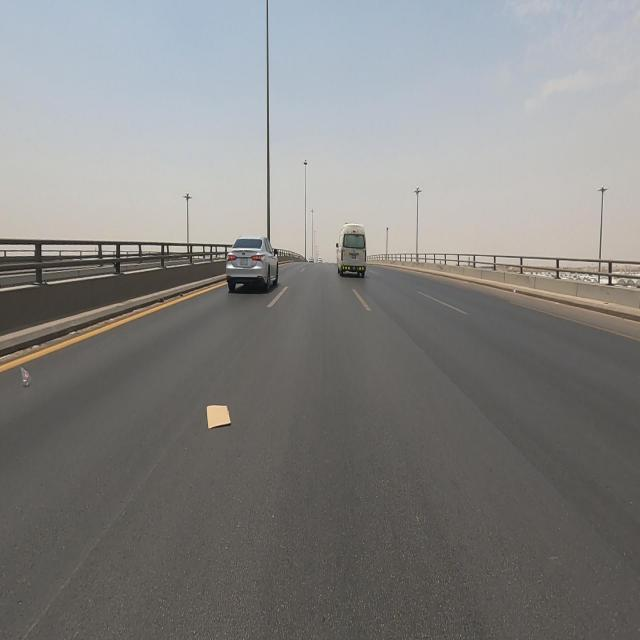debris: (171, 369, 260, 462), (5, 333, 48, 417)
